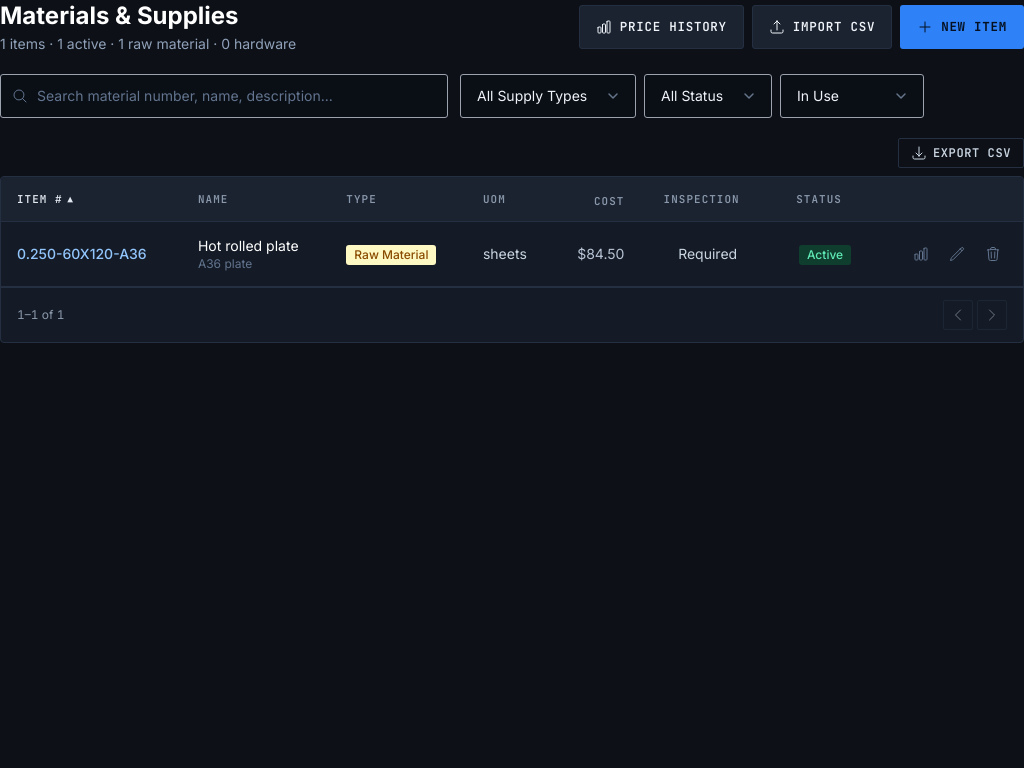
it: Materials renumber gate › hides Renumber from a supervisor, who the endpoint would refuse
The image size is (1024, 768).
Click the button named "edit" at coordinates (957, 254), box [943,240,971,268]
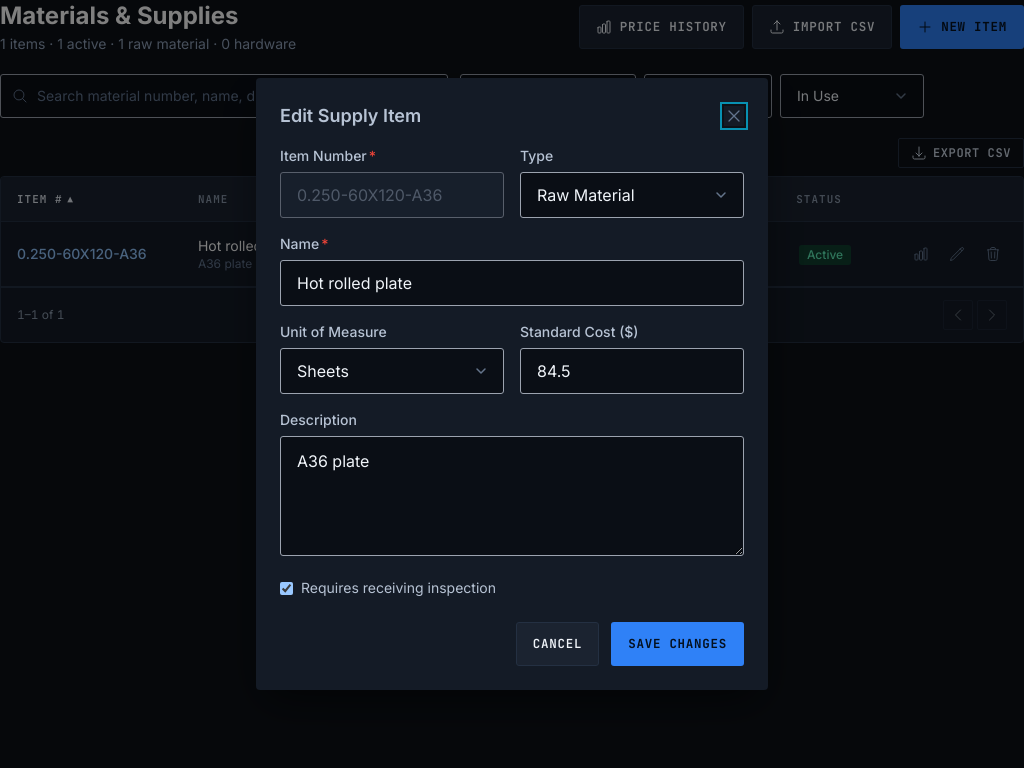
Now the field labelled "Item Number*" is shown, box [280,172,504,218]
